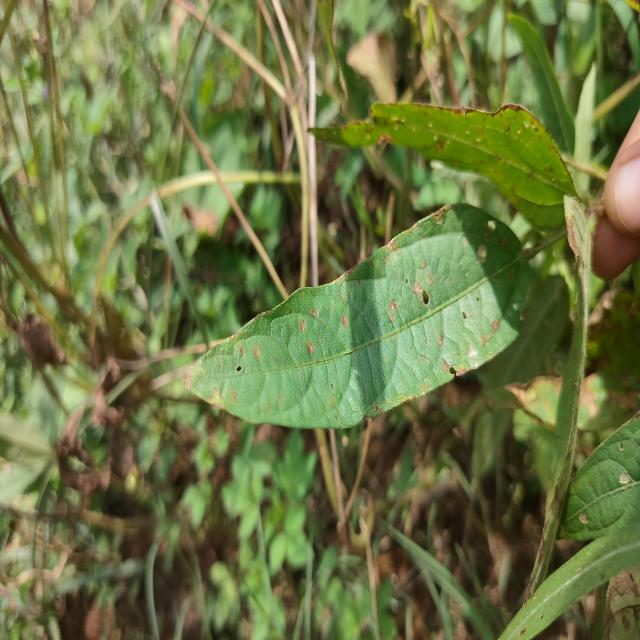Black gram_leaf spot: (180, 199, 542, 429)
